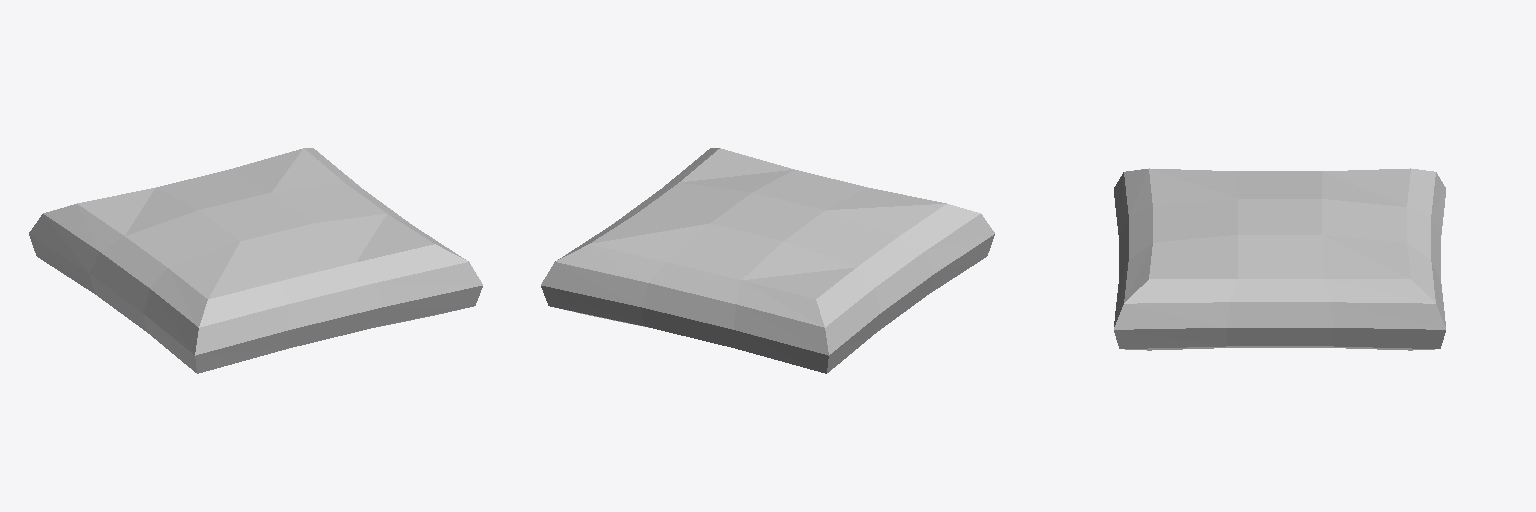
The model's file is pillow01.obj.
3 views of the same model, side by side, from view 1: azimuth 30°, elevation 25°; view 2: azimuth 150°, elevation 25°; view 3: azimuth 270°, elevation 25° (orthographic).
Visible parts, largest first — view 1: Cube_Cube.001; view 2: Cube_Cube.001; view 3: Cube_Cube.001.
Boxes of the visible parts, x1,y1,x2,y2 form: Cube_Cube.001: [29, 148, 482, 373]; Cube_Cube.001: [541, 148, 994, 373]; Cube_Cube.001: [1114, 168, 1445, 350].
Size of the model in its own units: 0.4 by 0.1039 by 0.4.